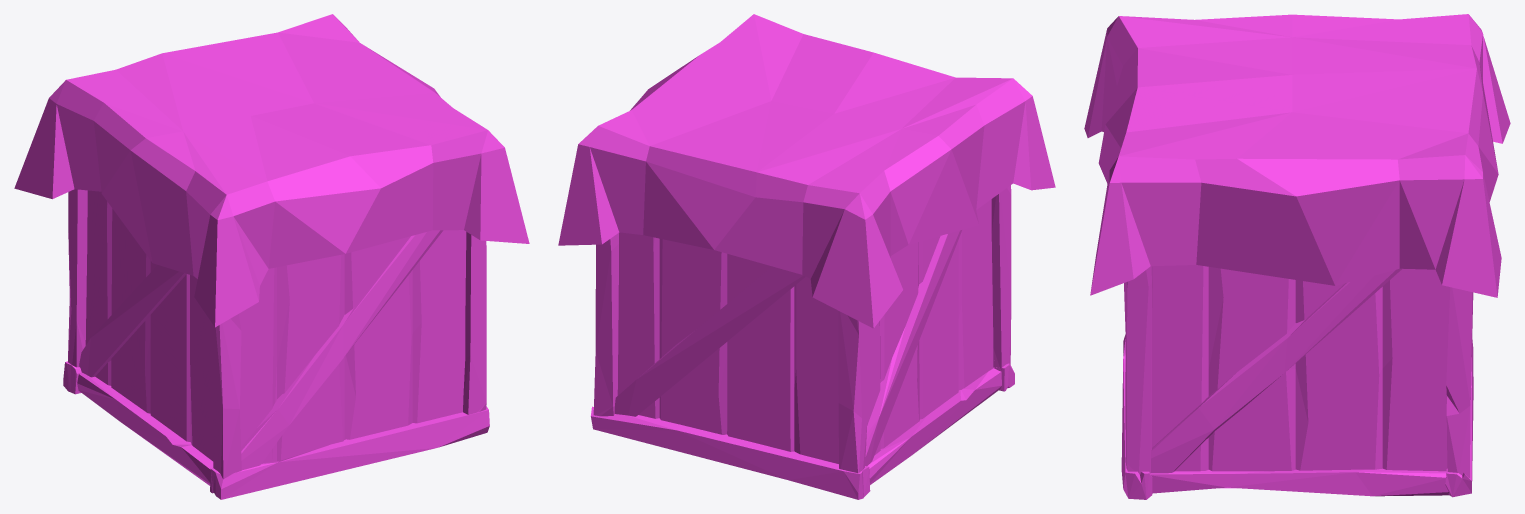
File: SM_Box_Blanket_Fantasy.fbx
The picture shows the model from 3 angles, left to right: view 1: azimuth 30°, elevation 25°; view 2: azimuth 150°, elevation 25°; view 3: azimuth 270°, elevation 25°; orthographic projection. The views are drawn at different scales.
Parts seen in each view (by area): view 1: SM_Box_Blanket_Fantasy; view 2: SM_Box_Blanket_Fantasy; view 3: SM_Box_Blanket_Fantasy.
Boxes of the visible parts, bbox=[...] form: SM_Box_Blanket_Fantasy: bbox=[14, 14, 529, 499]; SM_Box_Blanket_Fantasy: bbox=[558, 14, 1055, 499]; SM_Box_Blanket_Fantasy: bbox=[1084, 14, 1510, 499].
Bounding box in the file's own units: 1.18 × 1.07 × 1.2.
